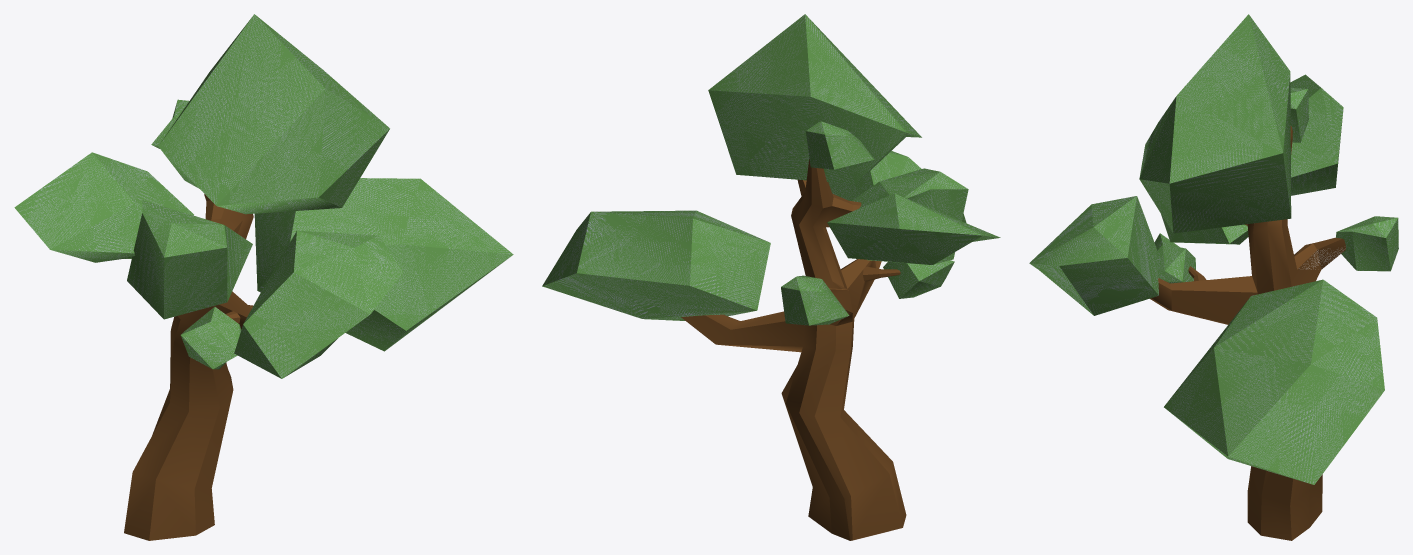
Rendered from Tree_Asia_01.fbx.
The picture shows the model from 3 angles, left to right: view 1: azimuth 30°, elevation 25°; view 2: azimuth 150°, elevation 25°; view 3: azimuth 270°, elevation 25°; orthographic projection. The views are drawn at different scales.
Parts seen in each view (by area): view 1: Model; view 2: Model; view 3: Model.
Part boxes in pixels (left/top/right/bottom): Model: left=14, top=14, right=513, bottom=540; Model: left=542, top=14, right=1000, bottom=540; Model: left=1029, top=14, right=1398, bottom=540.
Bounding box in the file's own units: 518 × 546 × 337.
